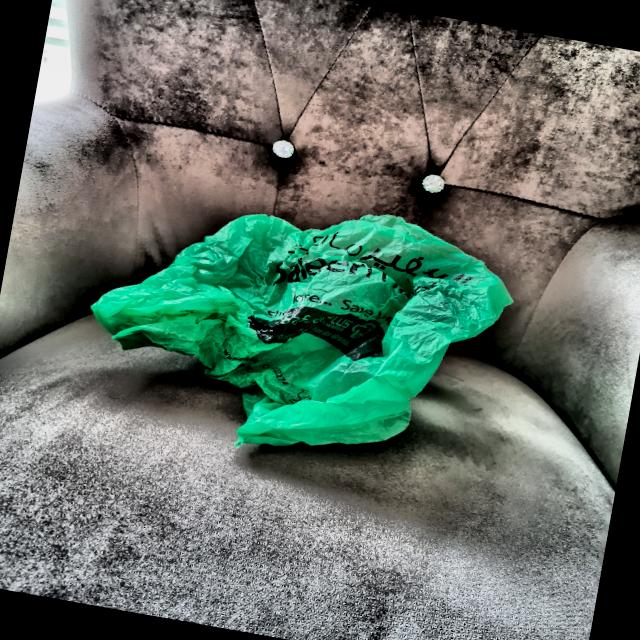plastic bag: (68, 164, 528, 488)
